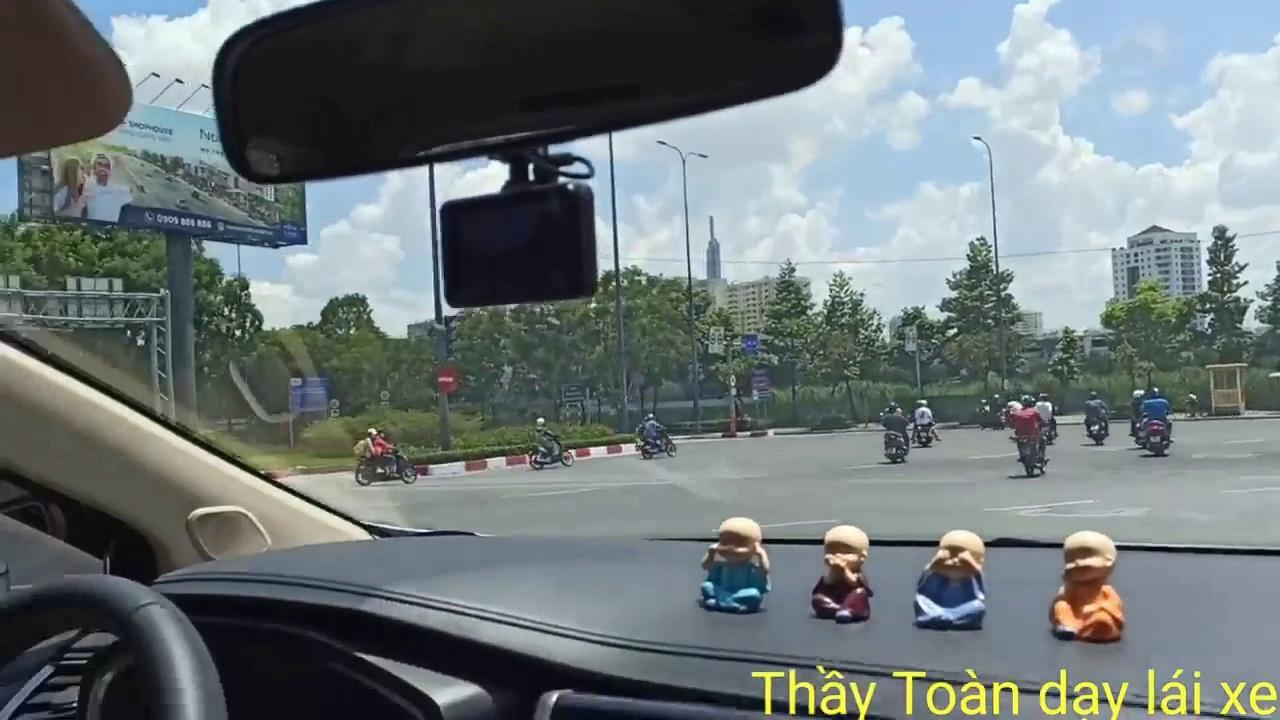Cấm cac phương tiện hoạt động trong khung giờ cố định: (708, 325, 725, 354)
Cấm đi ngược chiều: (431, 362, 465, 397)
Khác: (287, 376, 333, 412)
